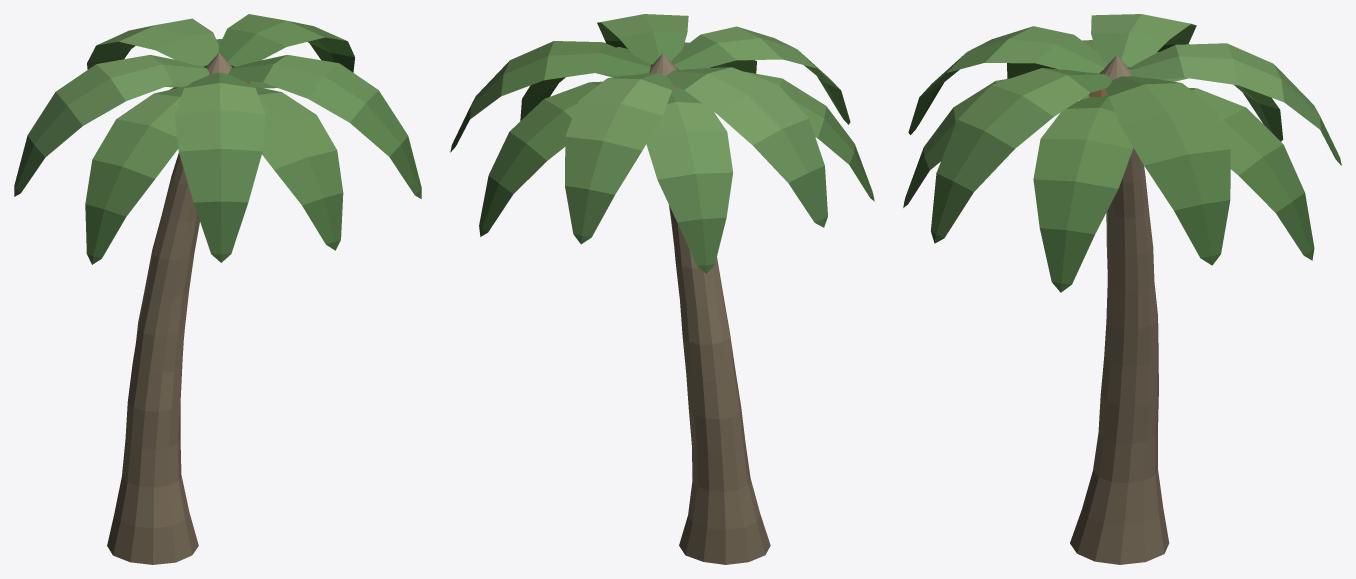
Rendered from Palm_Tree.glb.
3 renders of one model, left to right at view 1: azimuth 30°, elevation 25°; view 2: azimuth 150°, elevation 25°; view 3: azimuth 270°, elevation 25°, orthographic. The views are drawn at different scales.
Visible parts, largest first — view 1: Palm_Tree; view 2: Palm_Tree; view 3: Palm_Tree.
Boxes of the visible parts, left/top/right/bottom form: Palm_Tree: left=14, top=14, right=421, bottom=564; Palm_Tree: left=450, top=14, right=874, bottom=564; Palm_Tree: left=903, top=14, right=1341, bottom=564.
Bounding box in the file's own units: 3.7 × 4.8 × 3.63.
